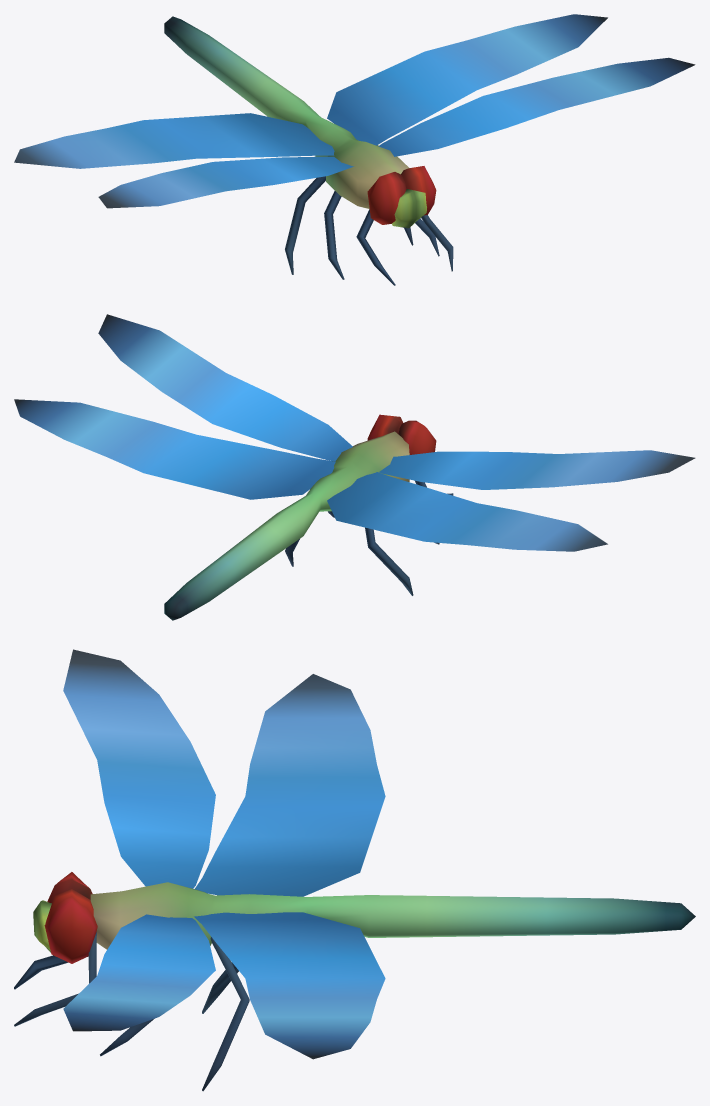
File: 39abdc1c-8bca-4661-a530-01075b4f1c30.glb
3 renders of one model, top to bottom at view 1: azimuth 30°, elevation 25°; view 2: azimuth 150°, elevation 25°; view 3: azimuth 270°, elevation 25°, orthographic. The views are drawn at different scales.
Visible parts, largest first — view 1: DragonFly; view 2: DragonFly; view 3: DragonFly.
Boxes of the visible parts, x1=… form: DragonFly: x1=14, y1=14, x2=695, y2=285; DragonFly: x1=14, y1=314, x2=695, y2=620; DragonFly: x1=14, y1=649, x2=695, y2=1091.
Bounding box in the file's own units: 0.5405 × 0.1388 × 0.404.
1 material, 1 textured.
